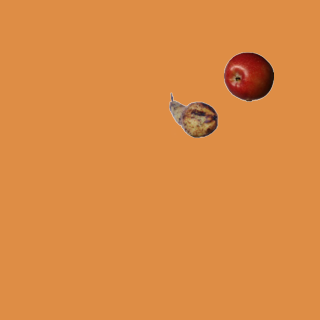Apple Braeburn: (223, 51, 273, 101)
Pear Abate: (168, 90, 218, 140)
